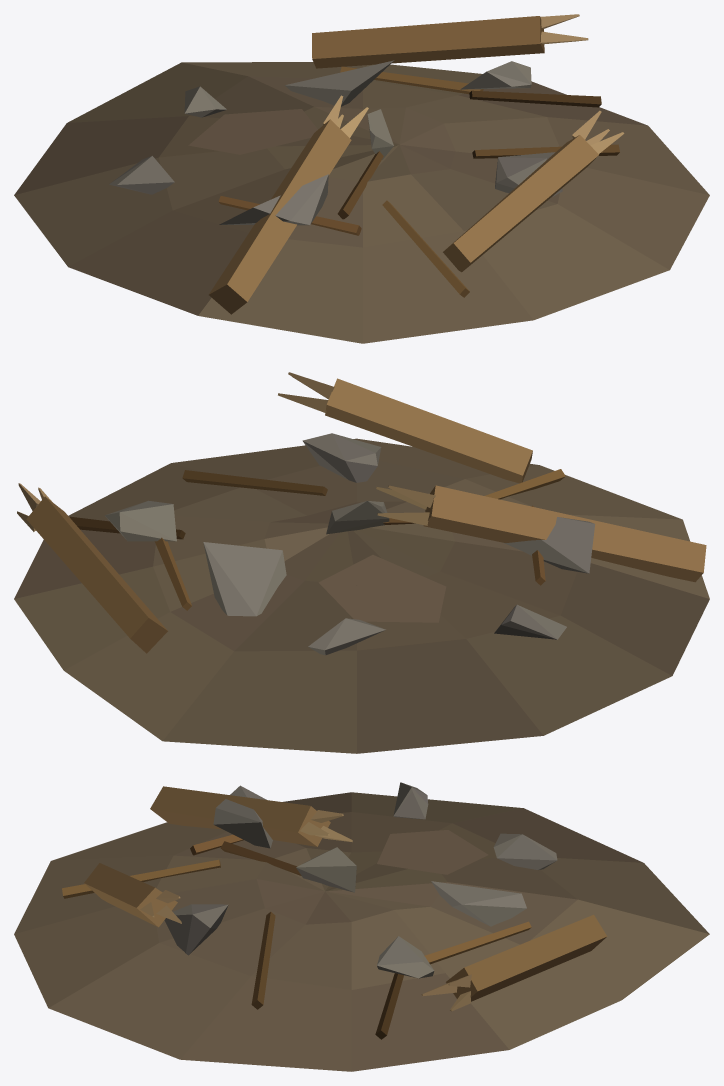
Rendered from rubble.glb.
3 views of the same model, one above another, from view 1: azimuth 30°, elevation 25°; view 2: azimuth 150°, elevation 25°; view 3: azimuth 270°, elevation 25° (orthographic). The views are drawn at different scales.
Visible parts, largest first — view 1: rubble; view 2: rubble; view 3: rubble.
Part boxes in pixels (left/top/right/bottom): rubble: left=14, top=14, right=709, bottom=343; rubble: left=14, top=372, right=709, bottom=753; rubble: left=14, top=782, right=709, bottom=1071.
Size of the model in its own units: 4.99 by 0.9192 by 5.25.
